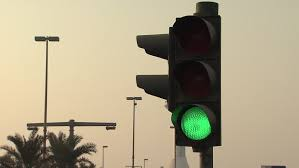green: (171, 13, 226, 152), (174, 18, 219, 147), (178, 22, 213, 141)
